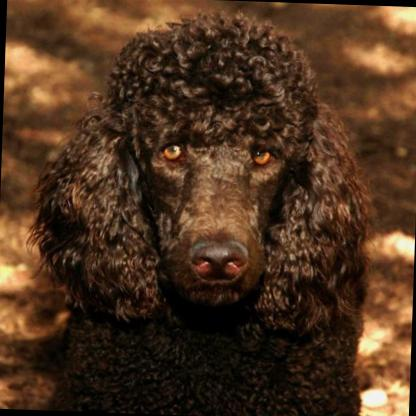standard_poodle: (21, 0, 377, 416)
